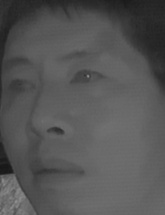eye: (67, 66, 105, 90), (6, 75, 40, 95)
mouth: (27, 153, 87, 192)
